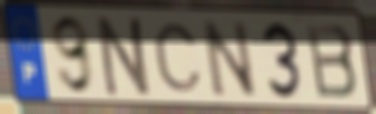3: (261, 19, 302, 100)
9: (48, 13, 97, 97)
B: (303, 21, 361, 101)
C: (151, 20, 205, 94)
N: (95, 14, 155, 100), (198, 17, 260, 100)
